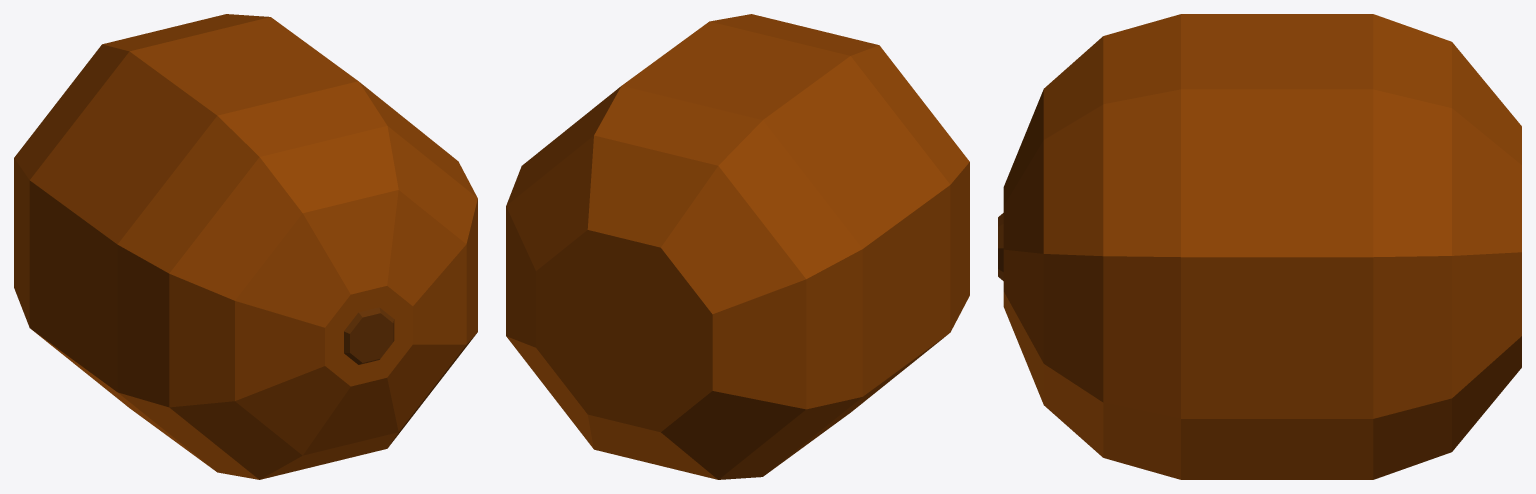
Rendered from kiwi01.obj.
The picture shows the model from 3 angles, left to right: view 1: azimuth 30°, elevation 25°; view 2: azimuth 150°, elevation 25°; view 3: azimuth 270°, elevation 25°; orthographic projection. The views are drawn at different scales.
Parts seen in each view (by area): view 1: Cylinder.001; view 2: Cylinder.001; view 3: Cylinder.001.
Part boxes in pixels (x1=…): Cylinder.001: x1=14, y1=14, x2=477, y2=479; Cylinder.001: x1=506, y1=14, x2=969, y2=479; Cylinder.001: x1=998, y1=14, x2=1521, y2=479.
Bounding box in the file's own units: 0.0483 × 0.0483 × 0.0587.
Materials: 1 (1 with a texture image).
